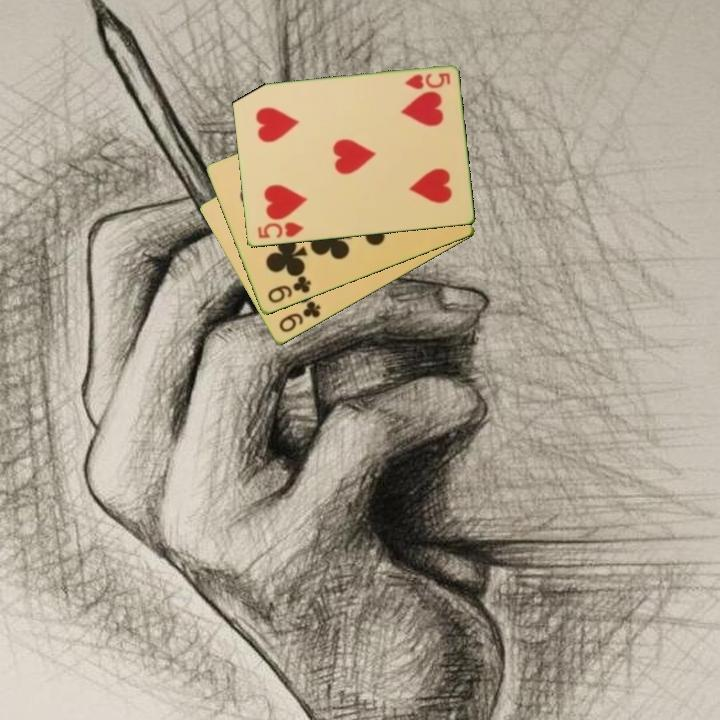5h: (254, 219, 307, 242), (401, 70, 453, 93)
9c: (275, 298, 324, 336), (264, 273, 314, 307)
